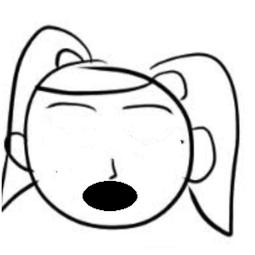ear: (183, 121, 218, 183), (1, 131, 33, 173)
eyebrow: (43, 98, 97, 116), (122, 100, 171, 116)
open_mouth: (80, 179, 144, 217)
pointy_nose: (108, 151, 119, 179)
